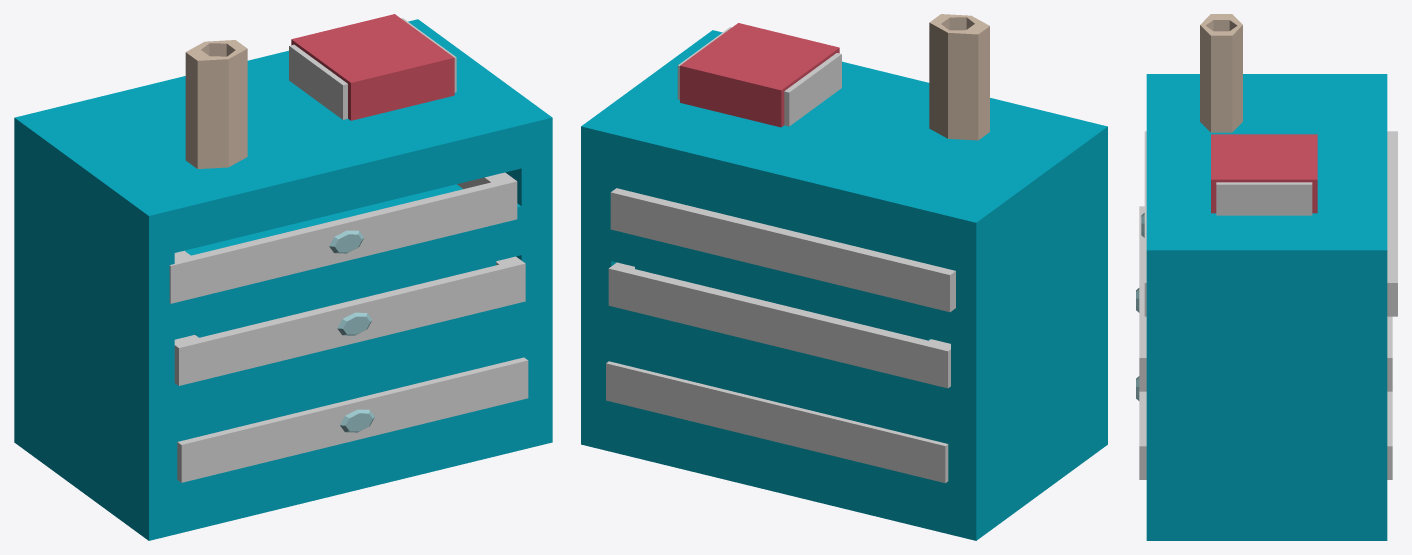
Rendered from Shiny Amberis-Kieran.glb.
3 views of the same model, side by side, from view 1: azimuth 30°, elevation 25°; view 2: azimuth 150°, elevation 25°; view 3: azimuth 270°, elevation 25° (orthographic). The views are drawn at different scales.
Parts seen in each view (by area): view 1: Mesh_Mesh_head_geo.001_lambert2SG.001; view 2: Mesh_Mesh_head_geo.001_lambert2SG.001; view 3: Mesh_Mesh_head_geo.001_lambert2SG.001.
Part boxes in pixels (left/top/right/bottom): Mesh_Mesh_head_geo.001_lambert2SG.001: left=14, top=14, right=552, bottom=540; Mesh_Mesh_head_geo.001_lambert2SG.001: left=581, top=14, right=1107, bottom=540; Mesh_Mesh_head_geo.001_lambert2SG.001: left=1136, top=14, right=1397, bottom=540.
Bounding box in the file's own units: 78 × 80 × 49.
